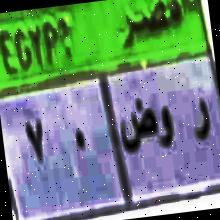0: (70, 114, 88, 158)
7: (22, 114, 52, 172)
daad: (112, 93, 160, 161)
raa: (188, 86, 214, 150)
waw: (154, 99, 178, 151)
